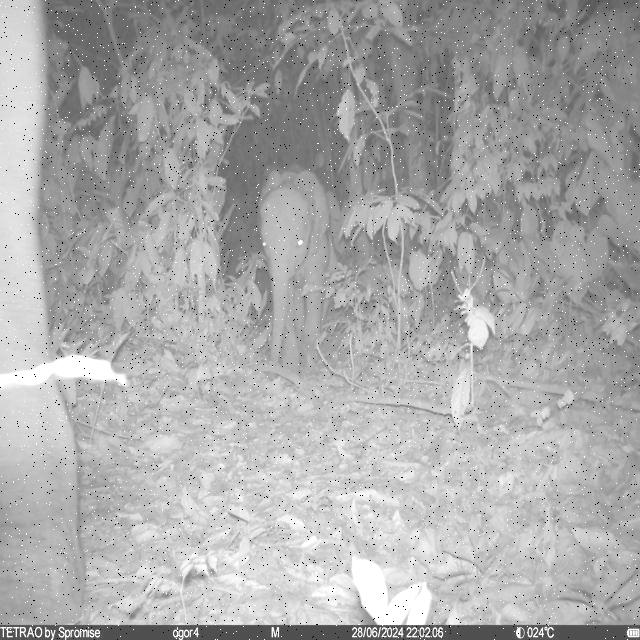calf: (256, 170, 334, 378)
ear: (294, 172, 331, 256), (258, 171, 282, 200)
elephant: (0, 40, 87, 626)
